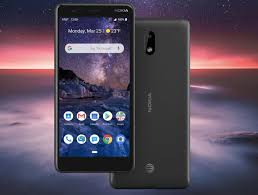nokia: (51, 1, 137, 175), (105, 19, 191, 193)
